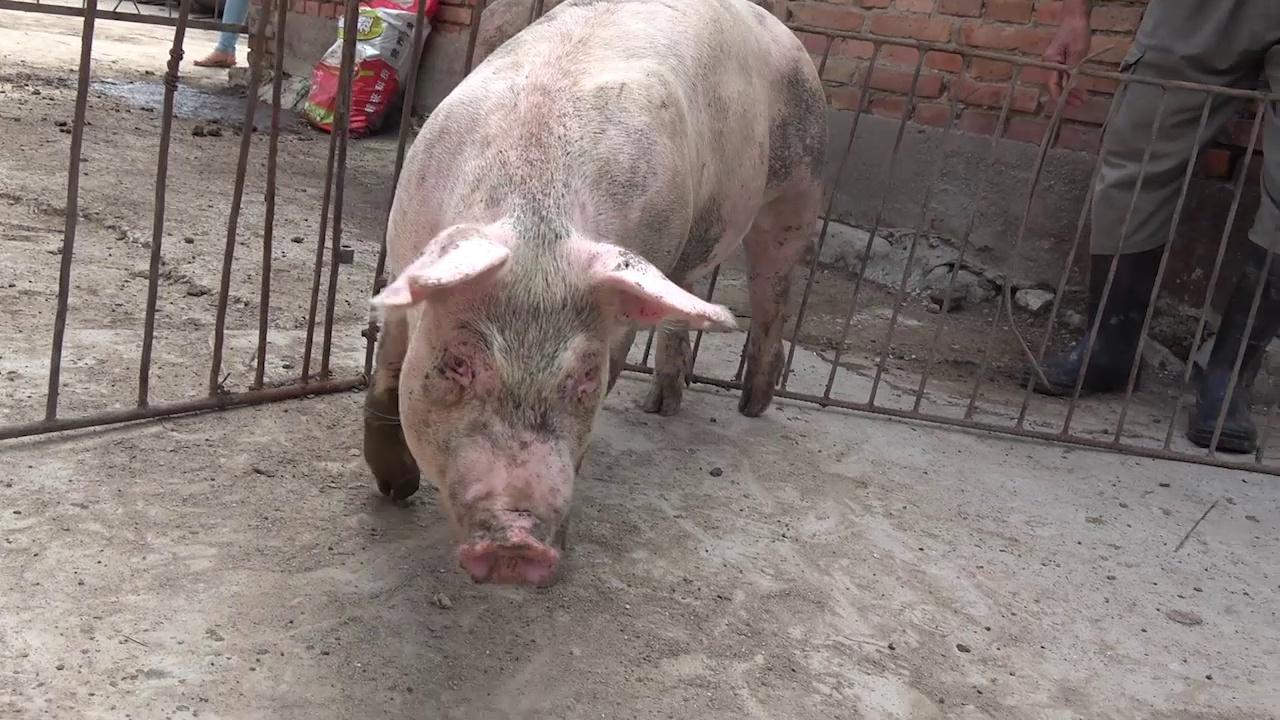Face: (372, 220, 740, 592)
